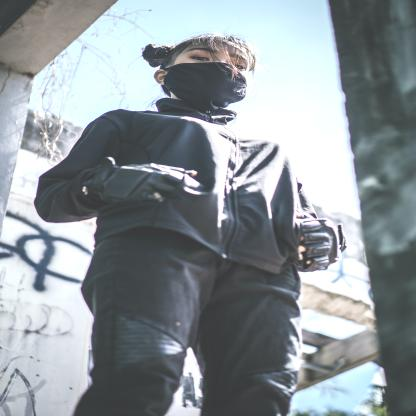dress: (34, 105, 328, 296), (75, 238, 301, 416), (169, 60, 251, 109)
